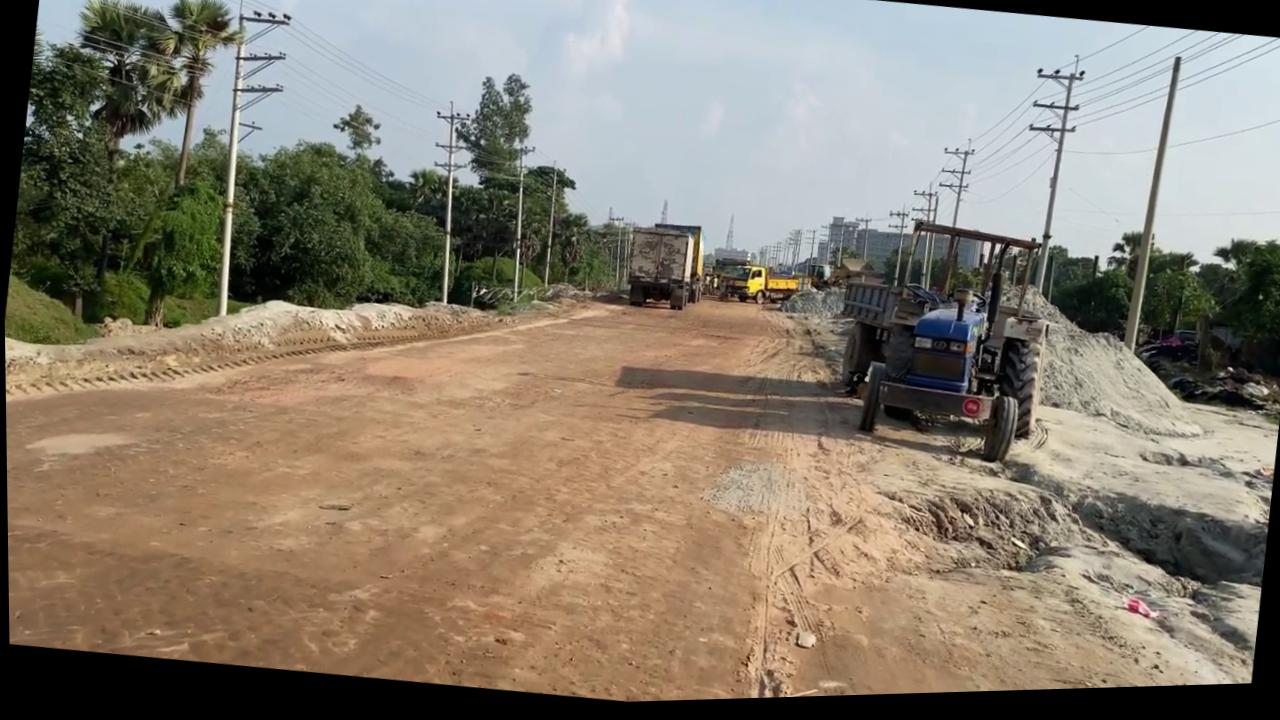Pole: (1117, 59, 1186, 362), (200, 0, 265, 318), (412, 101, 473, 307), (498, 145, 536, 305)
Rickshaw: (716, 294, 1280, 703)
Traffic-sign: (34, 0, 199, 329)
Tree: (824, 212, 1062, 477), (619, 221, 709, 318), (715, 264, 800, 315), (806, 259, 885, 304), (704, 250, 754, 303), (805, 266, 834, 297)
